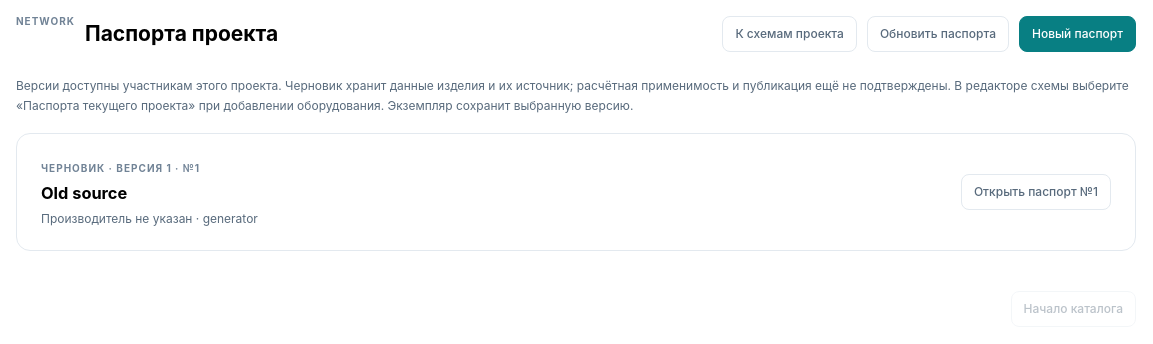
Test: late private response is aborted and hidden after changing the project
The width and height of the screenshot is (1153, 344).
Click the button "Открыть паспорт №1" at point(1036, 192), box [961,174,1111,210]
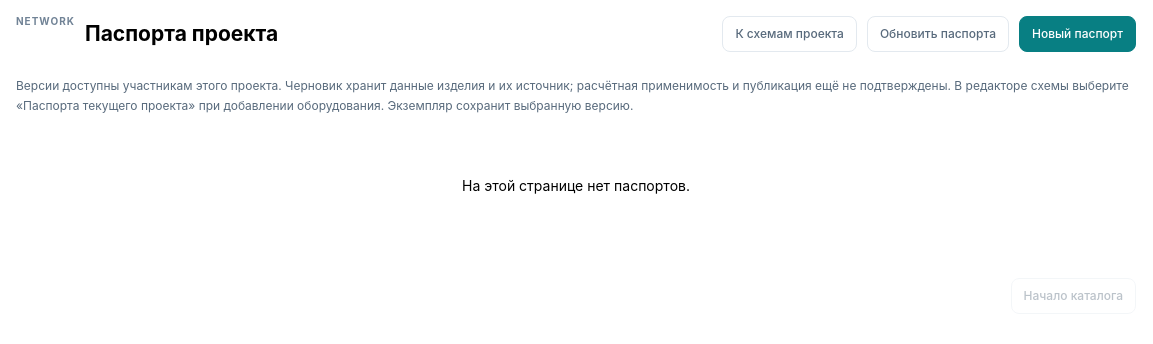
expect the text "Old source" is gone: met
